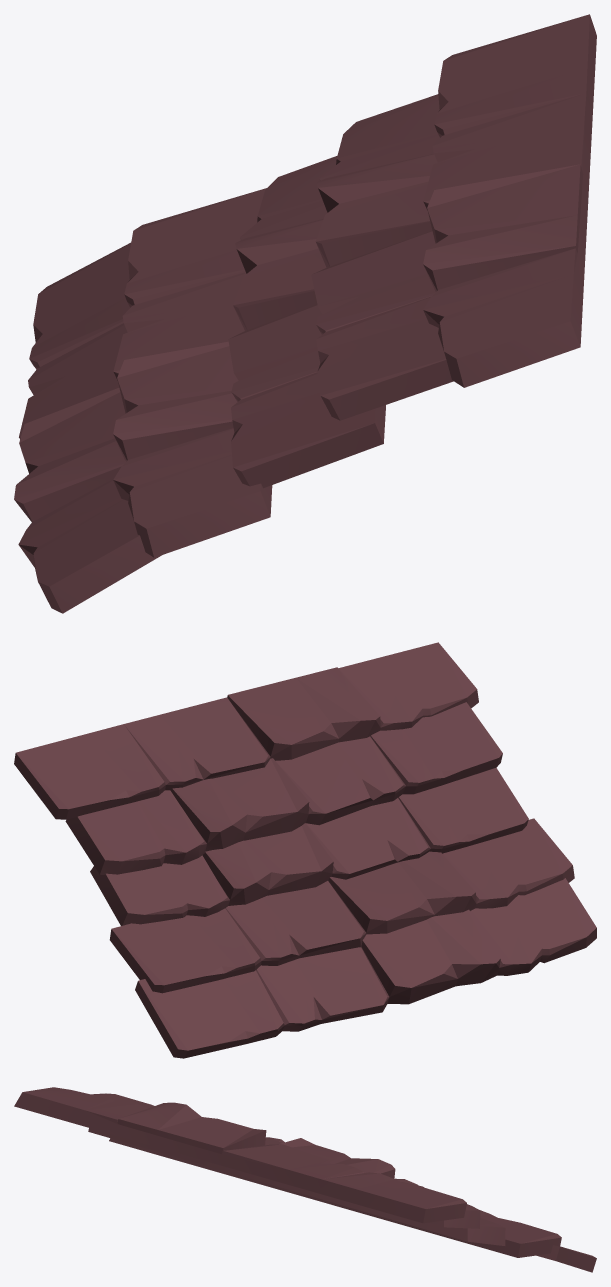
File: RedFrontPlatformRoof.fbx
The picture shows the model from 3 angles, top to bottom: view 1: azimuth 30°, elevation 25°; view 2: azimuth 150°, elevation 25°; view 3: azimuth 270°, elevation 25°; orthographic projection. The views are drawn at different scales.
Parts seen in each view (by area): view 1: RedFrontPlatformRoof_Merged; view 2: RedFrontPlatformRoof_Merged; view 3: RedFrontPlatformRoof_Merged.
Part boxes in pixels (x1,y1,x2,y2): RedFrontPlatformRoof_Merged: (14,14,596,613); RedFrontPlatformRoof_Merged: (14,642,596,1058); RedFrontPlatformRoof_Merged: (14,1087,596,1272).
Bounding box in the file's own units: 285 × 117 × 318.
